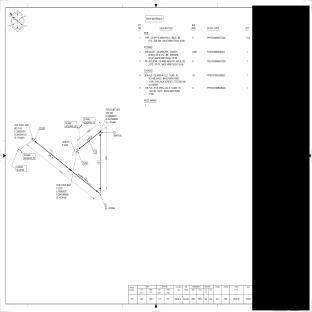elbow: (97, 189, 101, 194)
flange: (32, 139, 36, 143), (77, 148, 80, 152)
weld: (96, 190, 97, 192), (100, 188, 101, 189)
